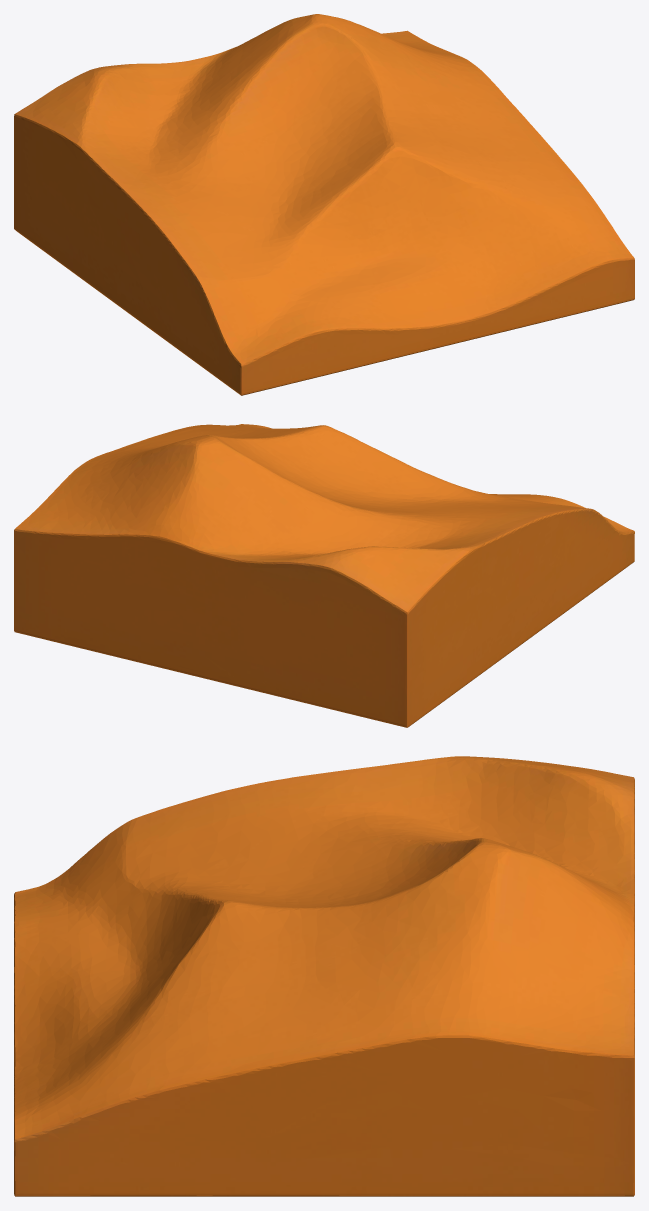
Rendered from dune1.fbx.
3 renders of one model, top to bottom at view 1: azimuth 30°, elevation 25°; view 2: azimuth 150°, elevation 25°; view 3: azimuth 270°, elevation 25°, orthographic. The views are drawn at different scales.
Visible parts, largest first — view 1: textured_mesh.obj; view 2: textured_mesh.obj; view 3: textured_mesh.obj.
Boxes of the visible parts, x1,y1,x2,y2 form: textured_mesh.obj: (14, 14, 634, 395); textured_mesh.obj: (14, 424, 634, 727); textured_mesh.obj: (14, 756, 634, 1196).
Bounding box in the file's own units: 199 × 90.56 × 199.
1 material, 1 textured.
